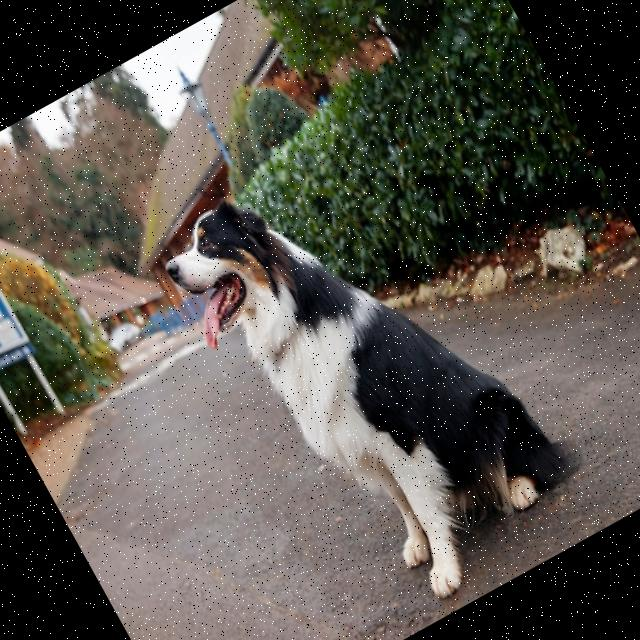Dog: (149, 110, 603, 638)
